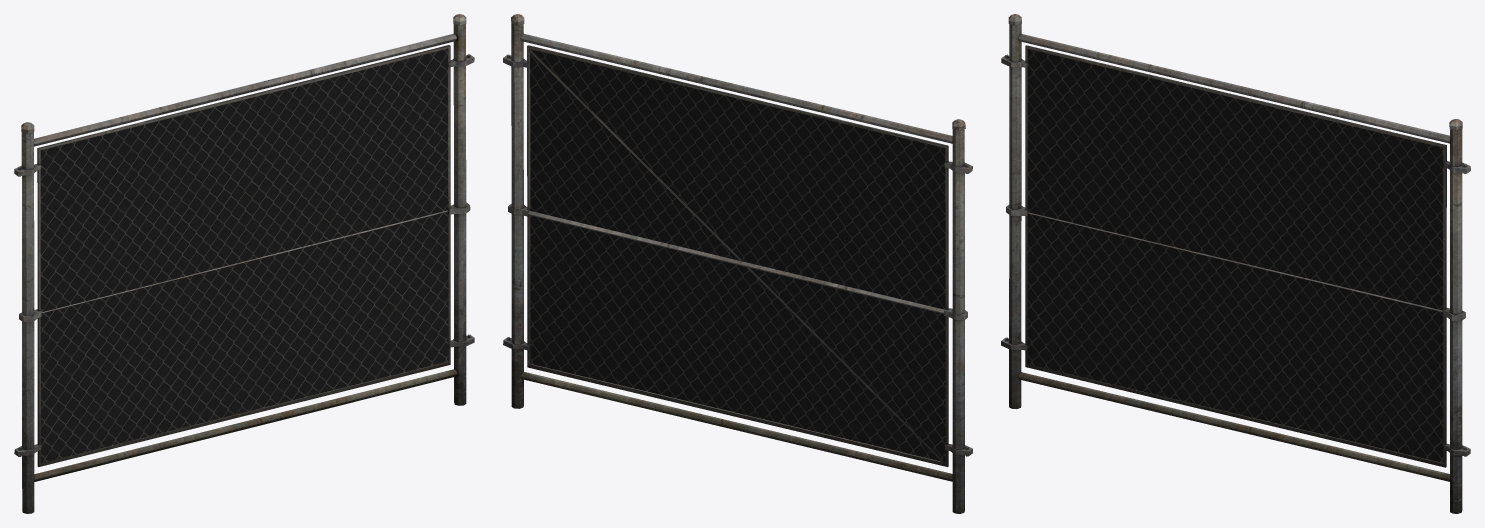
The model's file is gate.obj.
3 renders of one model, left to right at view 1: azimuth 30°, elevation 25°; view 2: azimuth 150°, elevation 25°; view 3: azimuth 330°, elevation 25°, orthographic.
Visible parts, largest first — view 1: fence.001, fence; view 2: fence.001, fence; view 3: fence.001, fence.
Boxes of the visible parts, x1,y1,x2,y2 form: fence.001: (40,49,448,463); fence: (14,14,474,513); fence.001: (530,49,945,462); fence: (503,14,972,513); fence.001: (1027,49,1443,462); fence: (1001,14,1470,513).
Bounding box in the file's own units: 1.5 × 1.21 × 0.0642.
Materials: 2 (2 with a texture image).
